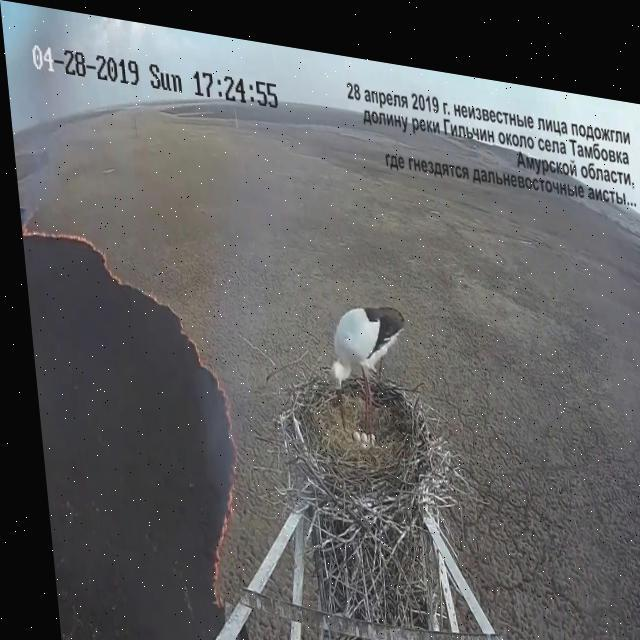Fire: (181, 331, 229, 455), (20, 223, 116, 280), (195, 473, 232, 576)
